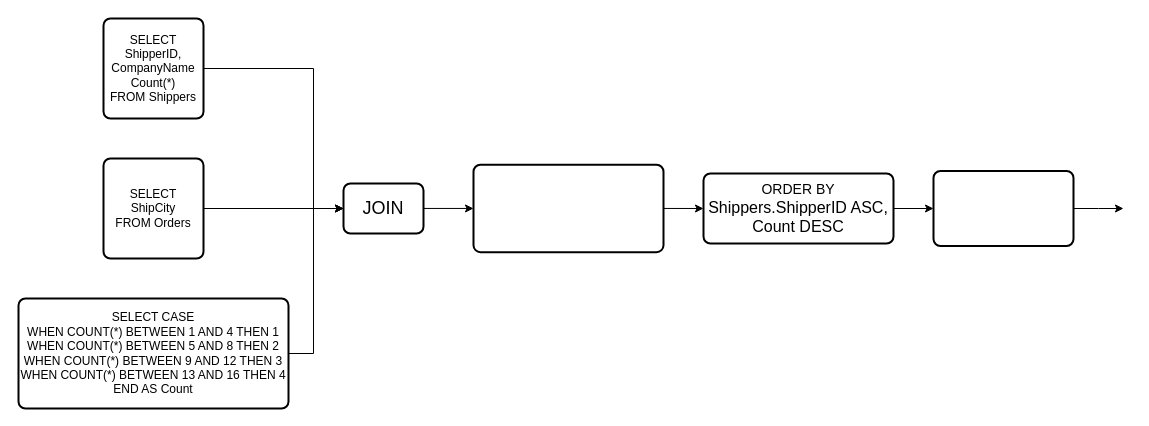
This 1149x426 diagram has some shape labels left out. The centre of each missing label's shape, as x and y in pixels:
GROUP BY Shippers.ShipperID, Orders.ShipCity, Shippers.CompanyName: point 568,208
PROCESS RESULT: point 1003,208
